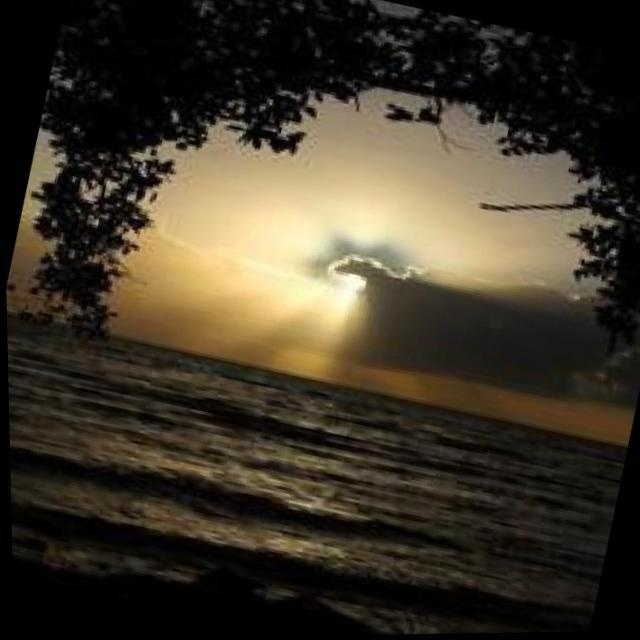sun: (328, 271, 363, 291)
